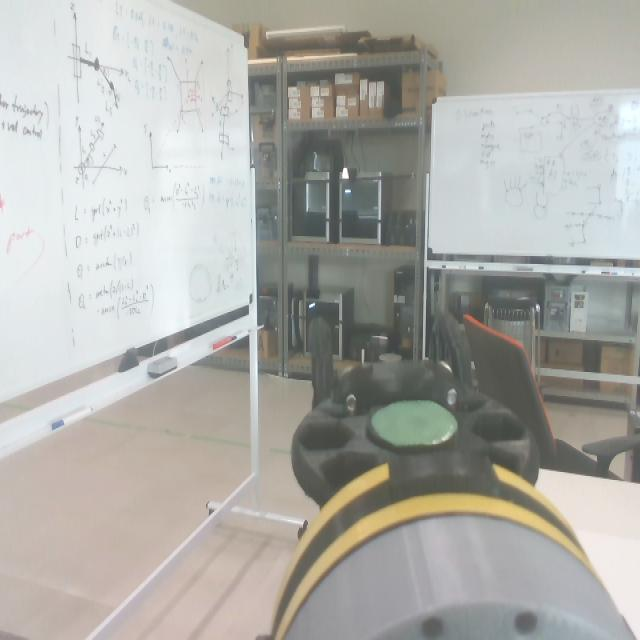body_connector: (281, 516, 640, 640)
connection: (266, 454, 640, 640)
leg: (266, 313, 597, 640)
leg_connector: (270, 450, 594, 638)
marker: (367, 400, 455, 447)
